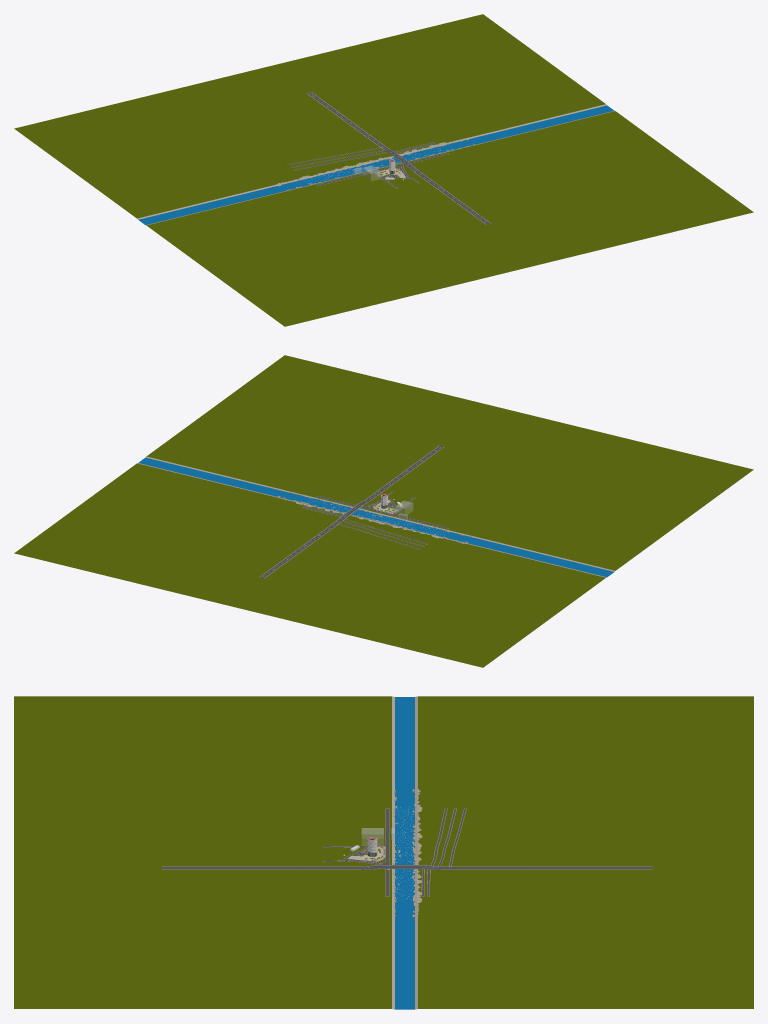
File: shahrofar.glb
The picture shows the model from 3 angles, top to bottom: view 1: azimuth 30°, elevation 25°; view 2: azimuth 150°, elevation 25°; view 3: azimuth 270°, elevation 25°; orthographic projection. The views are drawn at different scales.
Visible parts, largest first — view 1: Site ground, Avenue and bridge; view 2: Site ground, Avenue and bridge; view 3: Site ground, Avenue and bridge.
Part boxes in pixels (bbox=[...]): Site ground: bbox=[14, 14, 753, 326]; Avenue and bridge: bbox=[307, 92, 490, 224]; Site ground: bbox=[14, 355, 753, 667]; Avenue and bridge: bbox=[260, 445, 443, 578]; Site ground: bbox=[14, 696, 753, 1009]; Avenue and bridge: bbox=[162, 863, 652, 869].
Bounding box in the file's own units: 3000 × 78.99 × 3000.
